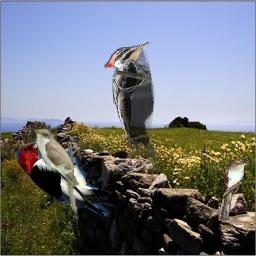Cuckoo: (30, 126, 80, 220), (218, 158, 248, 221)
Woodpecker: (4, 129, 127, 221), (104, 41, 155, 171)
